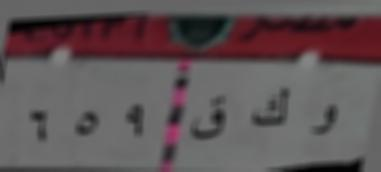5: (72, 108, 102, 148)
6: (22, 100, 52, 152)
9: (122, 98, 152, 149)
kaaf: (246, 75, 296, 141)
qaaf: (187, 88, 230, 150)
waw: (306, 95, 343, 146)
